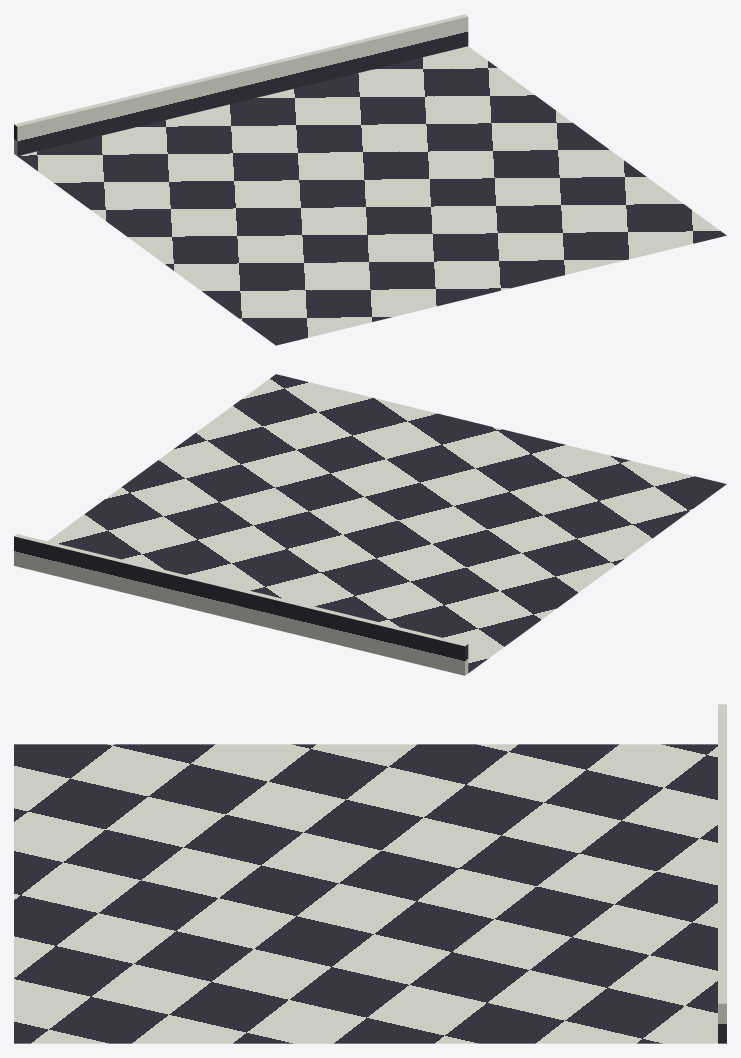
The model's file is tiled_floor.out_floor.glb.
The picture shows the model from 3 angles, top to bottom: view 1: azimuth 30°, elevation 25°; view 2: azimuth 150°, elevation 25°; view 3: azimuth 270°, elevation 25°; orthographic projection. The views are drawn at different scales.
Visible parts, largest first — view 1: Floor, Skirting; view 2: Floor, Skirting; view 3: Floor, Skirting.
Part boxes in pixels (x1=…): Floor: x1=17, y1=46, x2=726, y2=345; Skirting: x1=14, y1=14, x2=468, y2=156; Floor: x1=48, y1=374, x2=726, y2=672; Skirting: x1=14, y1=534, x2=468, y2=675; Floor: x1=14, y1=744, x2=717, y2=1043; Skirting: x1=718, y1=704, x2=726, y2=1043.
Size of the model in its own units: 8 by 0.5 by 8.05.
Materials: 2 (2 with a texture image).
